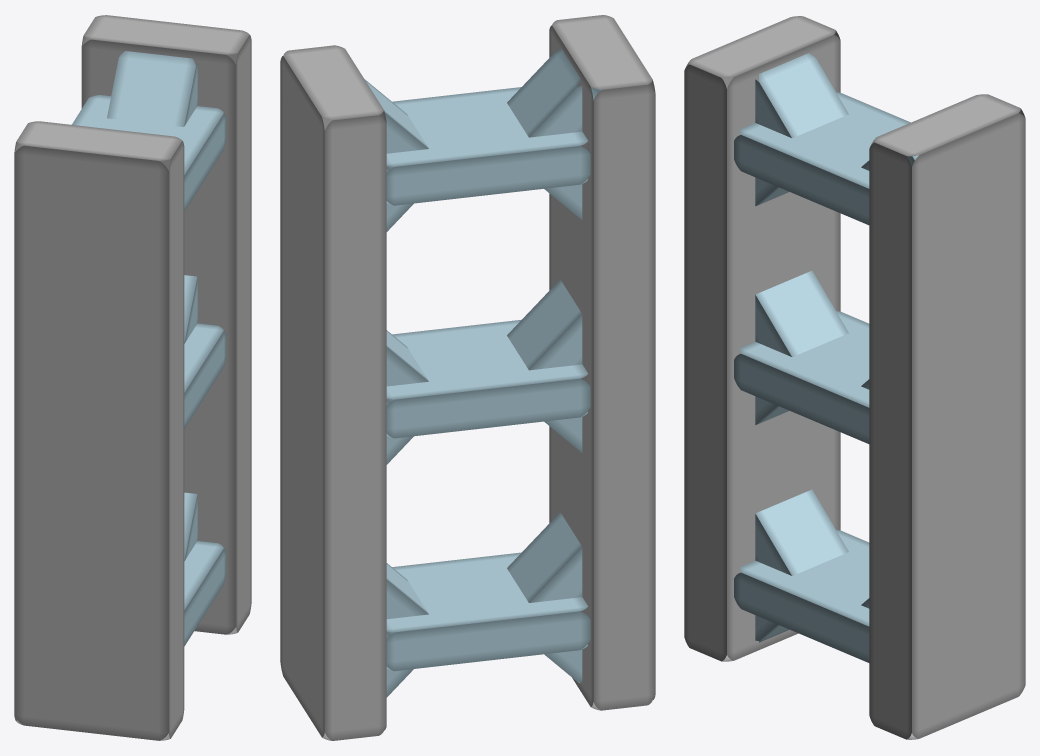
File: concrete_pole_45.obj
The picture shows the model from 3 angles, left to right: view 1: azimuth 30°, elevation 25°; view 2: azimuth 150°, elevation 25°; view 3: azimuth 270°, elevation 25°; orthographic projection. The views are drawn at different scales.
Parts seen in each view (by area): view 1: concrete_pole_45; view 2: concrete_pole_45; view 3: concrete_pole_45.
Boxes of the visible parts, x1,y1,x2,y2 form: concrete_pole_45: (14,15,251,740); concrete_pole_45: (280,15,655,740); concrete_pole_45: (684,16,1025,739).
Bounding box in the file's own units: 0.5303 × 1 × 0.5303.
